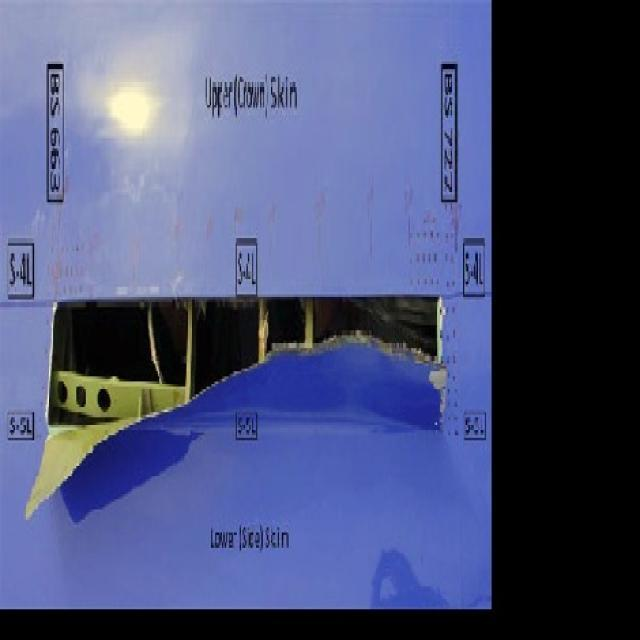crack: (23, 298, 452, 521)
